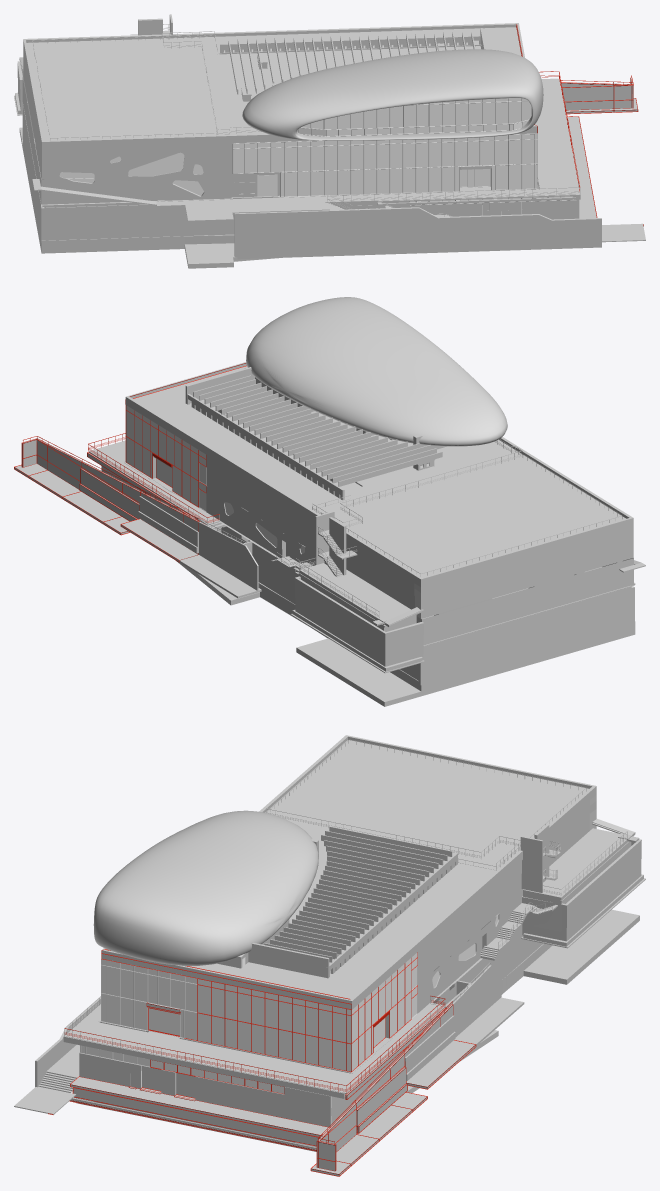
File: winery.gltf
3 views of the same model, one above another, from view 1: azimuth 30°, elevation 25°; view 2: azimuth 150°, elevation 25°; view 3: azimuth 270°, elevation 25° (orthographic). The views are drawn at different scales.
Parts seen in each view (by area): view 1: winery_white, winery_glass, winery_red; view 2: winery_white, winery_glass, winery_red; view 3: winery_white, winery_glass, winery_red.
Part boxes in pixels (left/top/right/bottom): winery_white: left=14, top=14, right=645, bottom=268; winery_glass: left=59, top=98, right=574, bottom=202; winery_red: left=516, top=24, right=643, bottom=226; winery_white: left=14, top=297, right=645, bottom=706; winery_glass: left=126, top=405, right=304, bottom=553; winery_red: left=14, top=363, right=246, bottom=562; winery_white: left=14, top=735, right=645, bottom=1175; winery_glass: left=81, top=915, right=498, bottom=1093; winery_red: left=48, top=949, right=476, bottom=1176.
Size of the model in its own units: 1.21 by 0.3004 by 0.9699.
